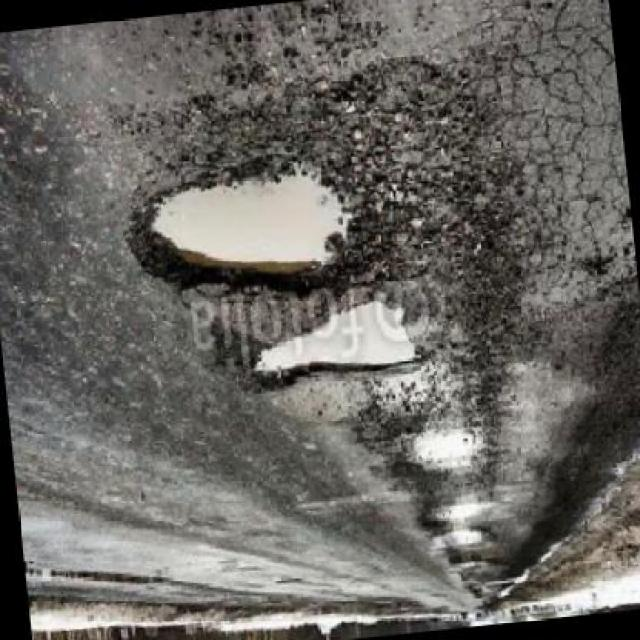pothole1: (122, 152, 381, 320), (238, 292, 431, 398), (409, 418, 488, 478), (429, 499, 491, 528), (436, 528, 487, 552)
